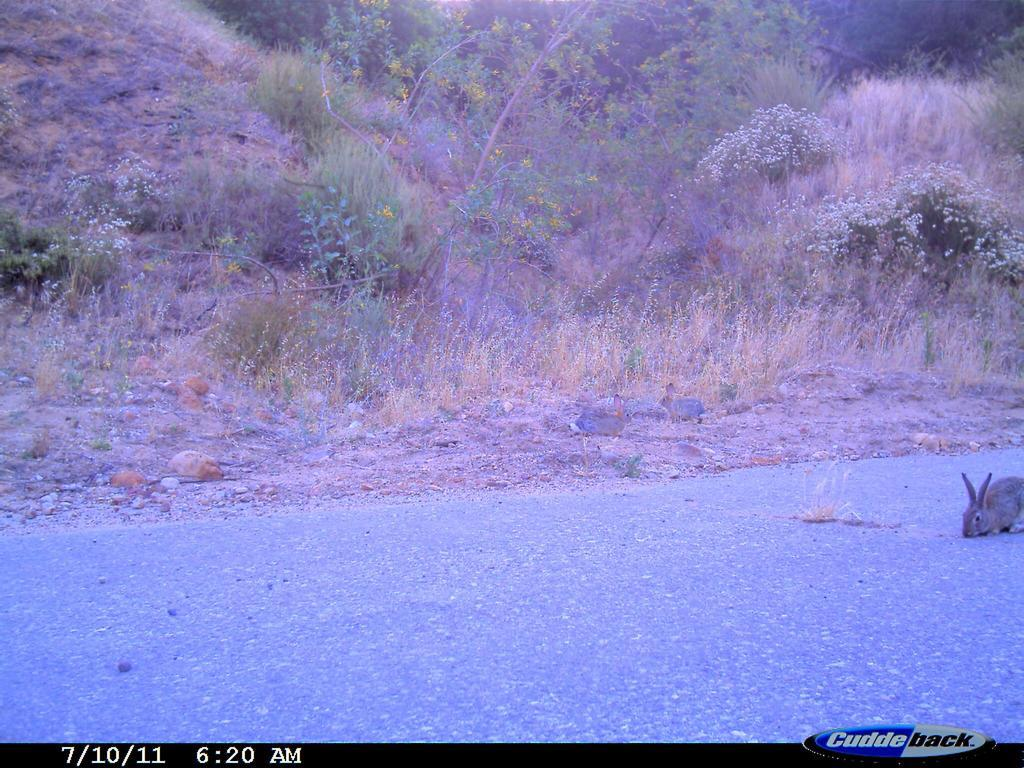rabbit: (950, 461, 1024, 543)
